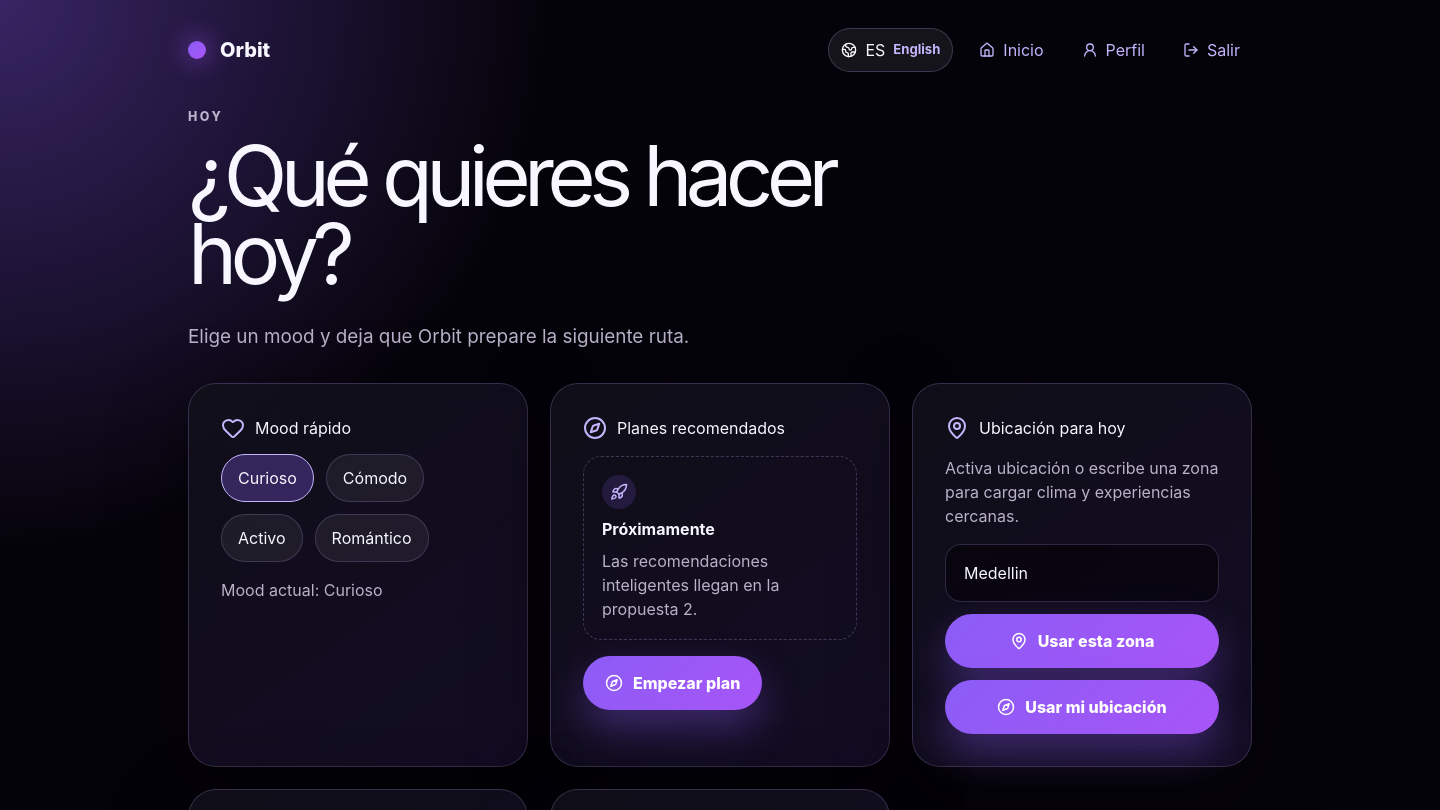
it: Orbit web foundation › opens the plan context flow from the dashboard
Step 1. Click the button "Empezar plan" → click(673, 683), box [583,656,762,710]
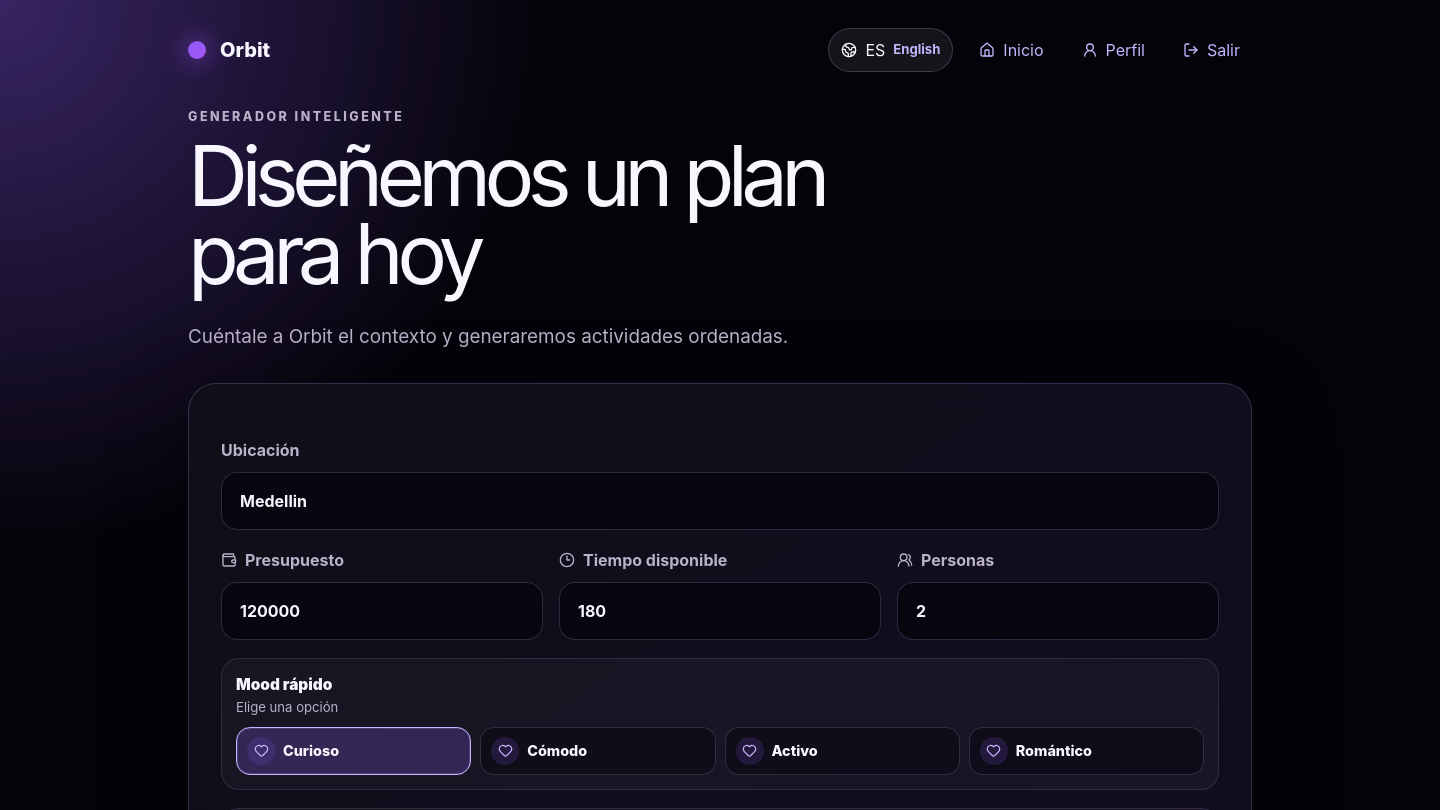
Check: the text "Ubicación" is shown, box [221,438,1219,530]
Check: the heading "Diseñemos un plan para hoy" is shown, box [188,125,824,304]
